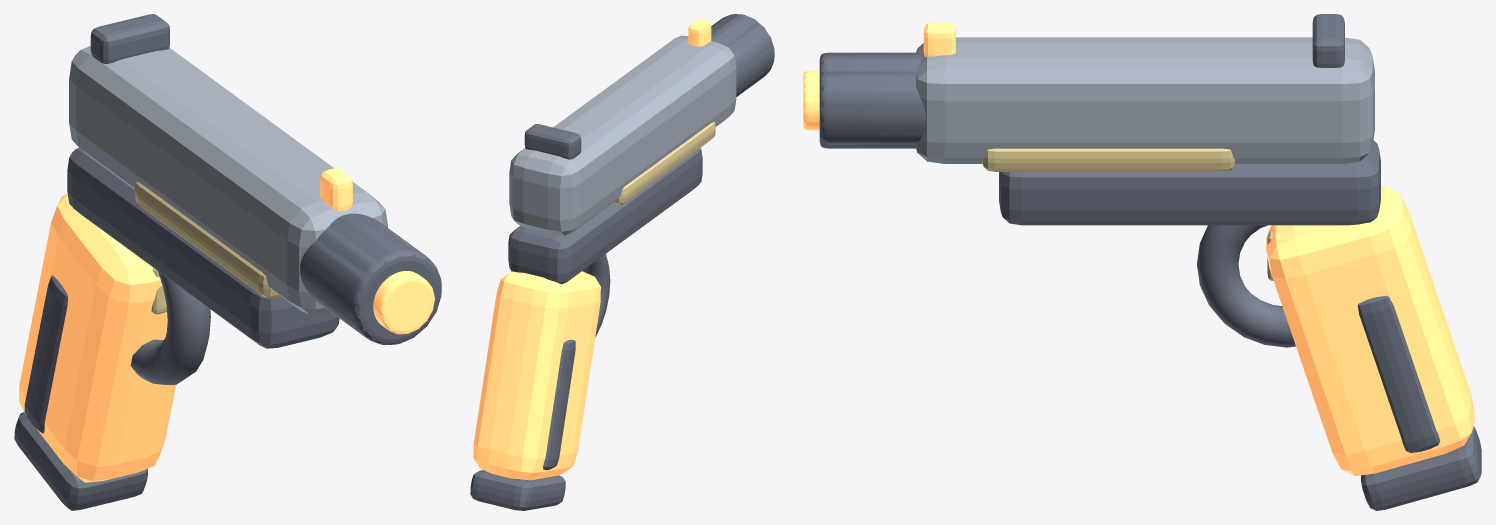
The model's file is pistol.glb.
3 views of the same model, side by side, from view 1: azimuth 30°, elevation 25°; view 2: azimuth 150°, elevation 25°; view 3: azimuth 270°, elevation 25° (orthographic). The views are drawn at different scales.
Visible parts, largest first — view 1: WPN_Pistol_Slide.002, WPN_Pistol_Grip.002, WPN_Pistol_Frame.002, WPN_Pistol_Barrel.002, WPN_Pistol_Guard.002, WPN_Pistol_MagBase.002, WPN_Pistol_GripPad.002, WPN_Pistol_Stripe.002, WPN_Pistol_Muzzle.002, WPN_Pistol_SightR.002, WPN_Pistol_SightF.002; view 2: WPN_Pistol_Slide.002, WPN_Pistol_Grip.002, WPN_Pistol_Frame.002, WPN_Pistol_Barrel.002, WPN_Pistol_MagBase.002, WPN_Pistol_GripPad.002, WPN_Pistol_Stripe.002, WPN_Pistol_SightR.002, WPN_Pistol_Guard.002, WPN_Pistol_SightF.002; view 3: WPN_Pistol_Slide.002, WPN_Pistol_Grip.002, WPN_Pistol_Frame.002, WPN_Pistol_Barrel.002, WPN_Pistol_Guard.002, WPN_Pistol_Stripe.002, WPN_Pistol_GripPad.002, WPN_Pistol_MagBase.002, WPN_Pistol_SightR.002, WPN_Pistol_SightF.002, WPN_Pistol_Muzzle.002.
Boxes of the visible parts, box(x1,y1,x2,y2) form: WPN_Pistol_Slide.002: box(69, 46, 387, 314); WPN_Pistol_Grip.002: box(19, 194, 175, 482); WPN_Pistol_Frame.002: box(67, 148, 339, 348); WPN_Pistol_Barrel.002: box(300, 213, 441, 345); WPN_Pistol_Guard.002: box(130, 271, 210, 384); WPN_Pistol_MagBase.002: box(14, 412, 147, 510); WPN_Pistol_GripPad.002: box(24, 275, 68, 433); WPN_Pistol_Stripe.002: box(135, 181, 280, 298); WPN_Pistol_Muzzle.002: box(373, 271, 434, 334); WPN_Pistol_SightR.002: box(90, 14, 169, 63); WPN_Pistol_SightF.002: box(320, 168, 352, 211); WPN_Pistol_Slide.002: box(509, 35, 736, 235); WPN_Pistol_Grip.002: box(473, 271, 600, 480); WPN_Pistol_Frame.002: box(508, 148, 702, 283); WPN_Pistol_Barrel.002: box(711, 14, 774, 96); WPN_Pistol_MagBase.002: box(470, 470, 565, 510); WPN_Pistol_GripPad.002: box(543, 339, 575, 470); WPN_Pistol_Stripe.002: box(612, 121, 715, 204); WPN_Pistol_SightR.002: box(524, 124, 581, 159); WPN_Pistol_Guard.002: box(582, 254, 610, 336); WPN_Pistol_SightF.002: box(688, 19, 711, 46); WPN_Pistol_Slide.002: box(915, 37, 1374, 163); WPN_Pistol_Grip.002: box(1266, 186, 1474, 475); WPN_Pistol_Frame.002: box(999, 140, 1380, 225); WPN_Pistol_Barrel.002: box(819, 52, 926, 148); WPN_Pistol_Guard.002: box(1197, 225, 1295, 347); WPN_Pistol_Stripe.002: box(982, 148, 1235, 171); WPN_Pistol_GripPad.002: box(1357, 295, 1440, 452); WPN_Pistol_MagBase.002: box(1361, 426, 1481, 510); WPN_Pistol_SightR.002: box(1312, 14, 1344, 67); WPN_Pistol_SightF.002: box(923, 22, 955, 56); WPN_Pistol_Muzzle.002: box(803, 71, 819, 130).
Bounding box in the file's own units: 0.048 × 0.2248 × 0.2931.
